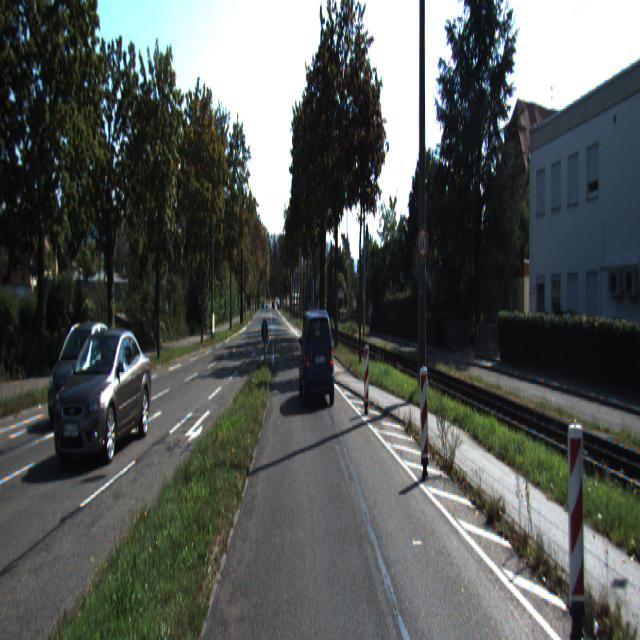Car: (56, 324, 154, 474), (49, 320, 115, 426), (298, 309, 335, 411)
